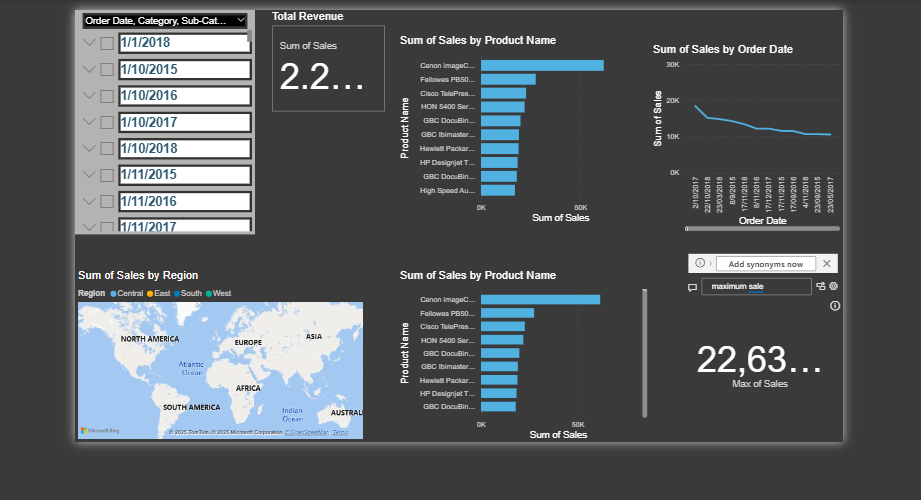

This screenshot's page, from the dashboard's own definition file:
{"tool":"powerbi","page":{"name":"Page 1","canvas":[1280,720],"ordinal":0},"visuals":[{"type":"cardVisual","title":"Total Revenue","fields":{"Data":["Sum(Superstore_sales.Sales)"]},"box":[324,0,198,174],"z":0},{"type":"clusteredBarChart","fields":{"Category":["Superstore_sales.Product Name"],"Y":["Sum(Superstore_sales.Sales)"]},"box":[536.7,40,421.7,320],"z":1000},{"type":"filledMap","fields":{"Series":["Superstore_sales.Region"]},"box":[0,431,485,289],"z":2000},{"type":"lineChart","fields":{"Category":["Superstore_sales.Order Date"],"Y":["Sum(Superstore_sales.Sales)"]},"box":[958.3,55,321.7,318.3],"z":2002},{"type":"qnaVisual","box":[1013.3,393.3,266.7,291.7],"z":2003},{"type":"barChart","fields":{"Category":["Superstore_sales.Product Name"],"Y":["Sum(Superstore_sales.Sales)"]},"box":[537,431,422,289],"z":2004},{"type":"slicer","fields":{"Values":["Superstore_sales.Order Date","Superstore_sales.Category","Superstore_sales.Sub-Category","Superstore_sales.Region","Superstore_sales.Segment"]},"box":[0,0,300,374],"z":2005}]}

Visuals, with their boxes on the page's 1280x720 design canvas (x1, y1, x2, y2). These are canvas units, not pixel positions in the 921x500 screenshot, which may show the page scaled, cropped or inside an application window:
"Total Revenue" cardVisual: [left=324, top=0, right=522, bottom=174]
clusteredBarChart - Superstore_sales.Product Name x Sum(Superstore_sales.Sales): [left=537, top=40, right=958, bottom=360]
filledMap - Superstore_sales.Region: [left=0, top=431, right=485, bottom=720]
lineChart - Superstore_sales.Order Date x Sum(Superstore_sales.Sales): [left=958, top=55, right=1280, bottom=373]
qnaVisual: [left=1013, top=393, right=1280, bottom=685]
barChart - Superstore_sales.Product Name x Sum(Superstore_sales.Sales): [left=537, top=431, right=959, bottom=720]
slicer - Superstore_sales.Order Date x Superstore_sales.Category: [left=0, top=0, right=300, bottom=374]
